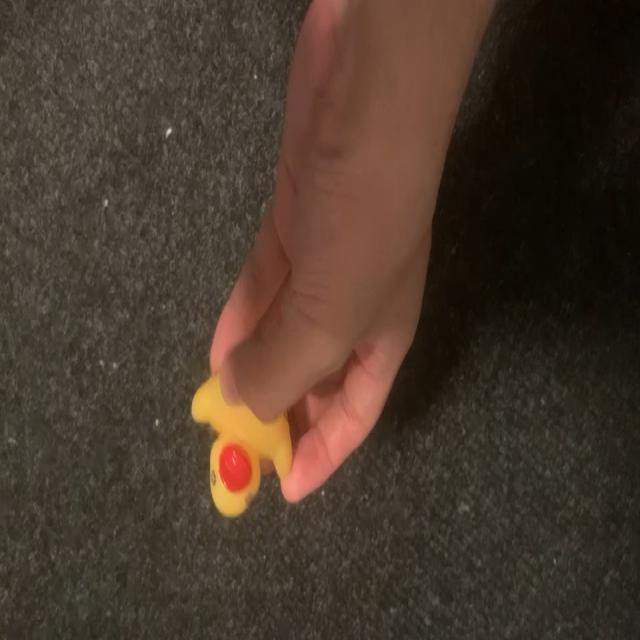rubber-duck: (191, 375, 290, 515)
